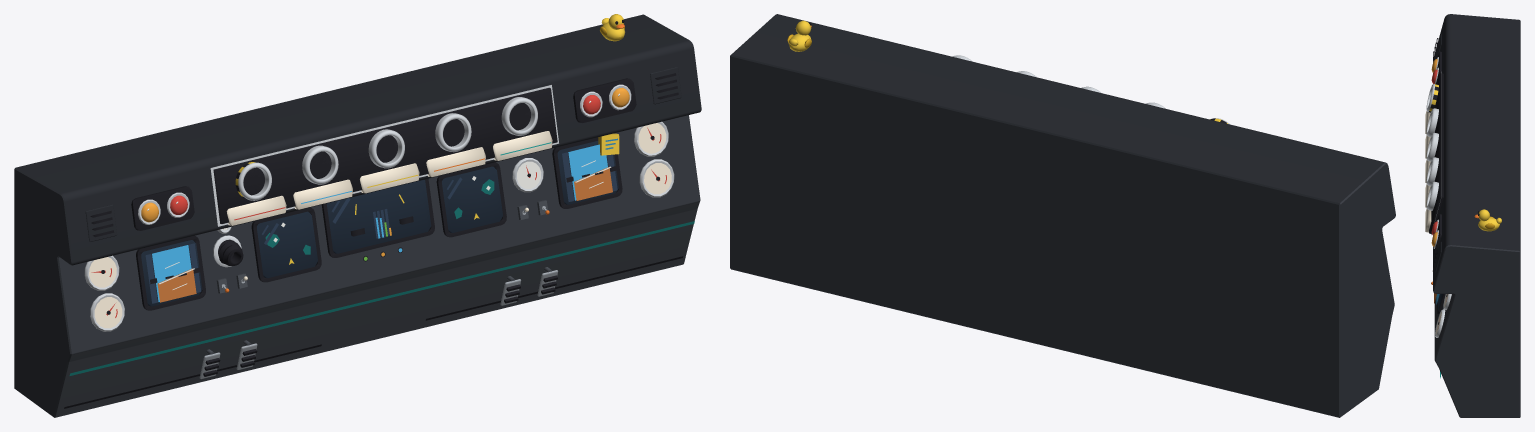
Rendered from CabinaCuadro.fbx.
The picture shows the model from 3 angles, left to right: view 1: azimuth 30°, elevation 25°; view 2: azimuth 150°, elevation 25°; view 3: azimuth 270°, elevation 25°; orthographic projection. The views are drawn at different scales.
Parts seen in each view (by area): view 1: CabinaCuadro; view 2: CabinaCuadro; view 3: CabinaCuadro.
Part boxes in pixels (left/top/right/bottom): CabinaCuadro: left=14, top=14, right=701, bottom=417; CabinaCuadro: left=730, top=14, right=1395, bottom=417; CabinaCuadro: left=1425, top=14, right=1520, bottom=417.
Size of the model in its own units: 10.9 by 4.15 by 1.92.
1 material, 1 textured.
